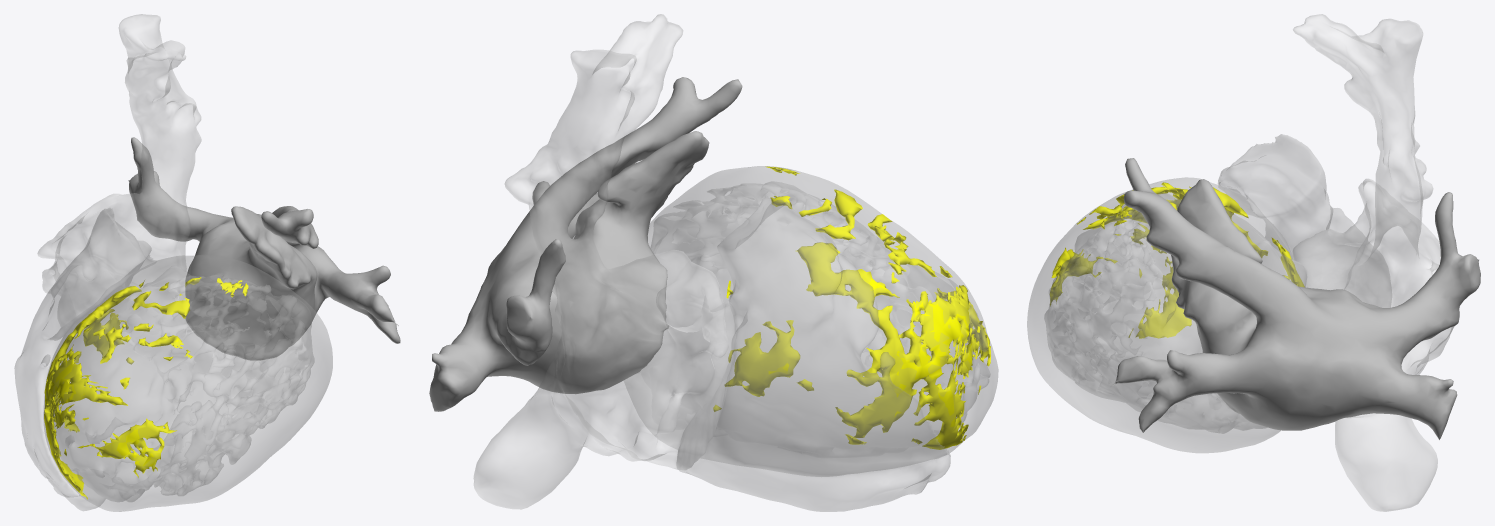
The model's file is inHEART_8_FAT.glb.
3 views of the same model, side by side, from view 1: azimuth 30°, elevation 25°; view 2: azimuth 150°, elevation 25°; view 3: azimuth 270°, elevation 25° (orthographic). The views are drawn at different scales.
Visible parts, largest first — view 1: LV EPI (CT) - Left Ventricular Epicardium - inHEART, LV ENDO (CT) - Left Ventricular Endocardium - inHEART, LA ENDO (CT) - Left Atrial Endocardium with Pulmonary Veins , RA ENDO (CT) - Right Atrial Endocardium - inHEART, RV ENDO (CT) - Right Ventricular Endocardium - inHEART, LV FAT (CT) - LV Fat - inHEART; view 2: RA ENDO (CT) - Right Atrial Endocardium - inHEART, RV ENDO (CT) - Right Ventricular Endocardium - inHEART, LA ENDO (CT) - Left Atrial Endocardium with Pulmonary Veins , LV EPI (CT) - Left Ventricular Epicardium - inHEART, LV FAT (CT) - LV Fat - inHEART, LV ENDO (CT) - Left Ventricular Endocardium - inHEART; view 3: LA ENDO (CT) - Left Atrial Endocardium with Pulmonary Veins , LV EPI (CT) - Left Ventricular Epicardium - inHEART, RA ENDO (CT) - Right Atrial Endocardium - inHEART, LV ENDO (CT) - Left Ventricular Endocardium - inHEART, RV ENDO (CT) - Right Ventricular Endocardium - inHEART, LV FAT (CT) - LV Fat - inHEART.
Part boxes in pixels (x1,y1,x2,y2): LV EPI (CT) - Left Ventricular Epicardium - inHEART: (43,254,332,511); LV ENDO (CT) - Left Ventricular Endocardium - inHEART: (53,265,314,501); LA ENDO (CT) - Left Atrial Endocardium with Pulmonary Veins : (128,137,400,360); RA ENDO (CT) - Right Atrial Endocardium - inHEART: (37,14,201,327); RV ENDO (CT) - Right Ventricular Endocardium - inHEART: (14,208,156,510); LV FAT (CT) - LV Fat - inHEART: (44,277,248,499); RA ENDO (CT) - Right Atrial Endocardium - inHEART: (473,14,737,509); RV ENDO (CT) - Right Ventricular Endocardium - inHEART: (676,196,950,511); LA ENDO (CT) - Left Atrial Endocardium with Pulmonary Veins : (429,77,742,411); LV EPI (CT) - Left Ventricular Epicardium - inHEART: (624,166,998,476); LV FAT (CT) - LV Fat - inHEART: (713,166,990,449); LV ENDO (CT) - Left Ventricular Endocardium - inHEART: (651,181,990,435); LA ENDO (CT) - Left Atrial Endocardium with Pulmonary Veins : (1111,158,1480,439); LV EPI (CT) - Left Ventricular Epicardium - inHEART: (1027,177,1306,452); RA ENDO (CT) - Right Atrial Endocardium - inHEART: (1293,14,1453,511); LV ENDO (CT) - Left Ventricular Endocardium - inHEART: (1044,193,1307,433); RV ENDO (CT) - Right Ventricular Endocardium - inHEART: (1218,134,1391,307); LV FAT (CT) - LV Fat - inHEART: (1050,182,1304,338).
Bounding box in the file's own units: 0.9779 × 1.05 × 0.9752.
